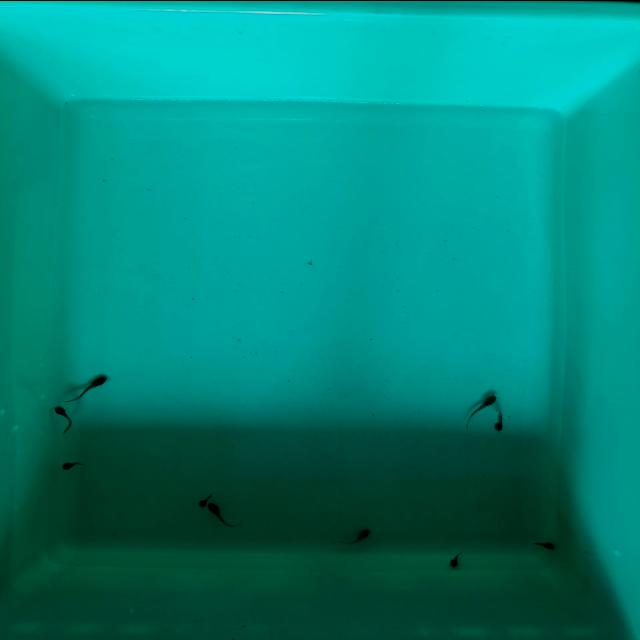lele: (58, 371, 114, 405), (460, 394, 501, 427), (205, 500, 239, 530), (338, 527, 372, 547), (52, 405, 74, 433), (194, 487, 217, 509), (445, 547, 465, 570), (56, 459, 86, 471), (531, 539, 558, 550), (493, 410, 504, 432)
